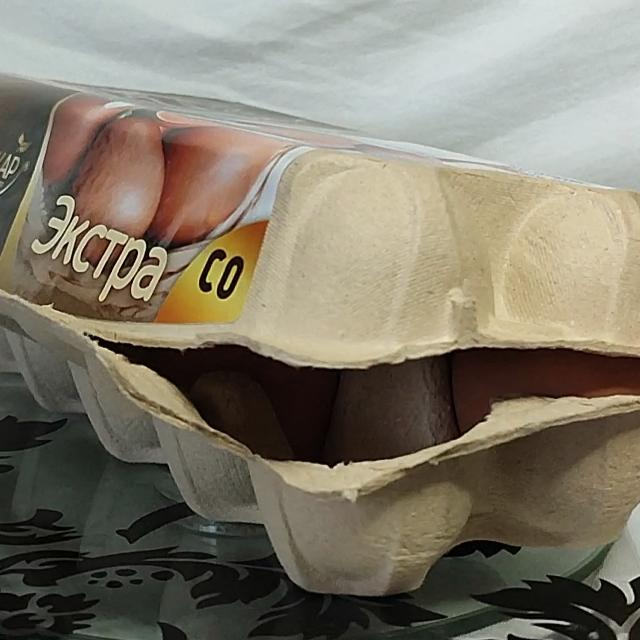egg: (0, 36, 640, 623)
